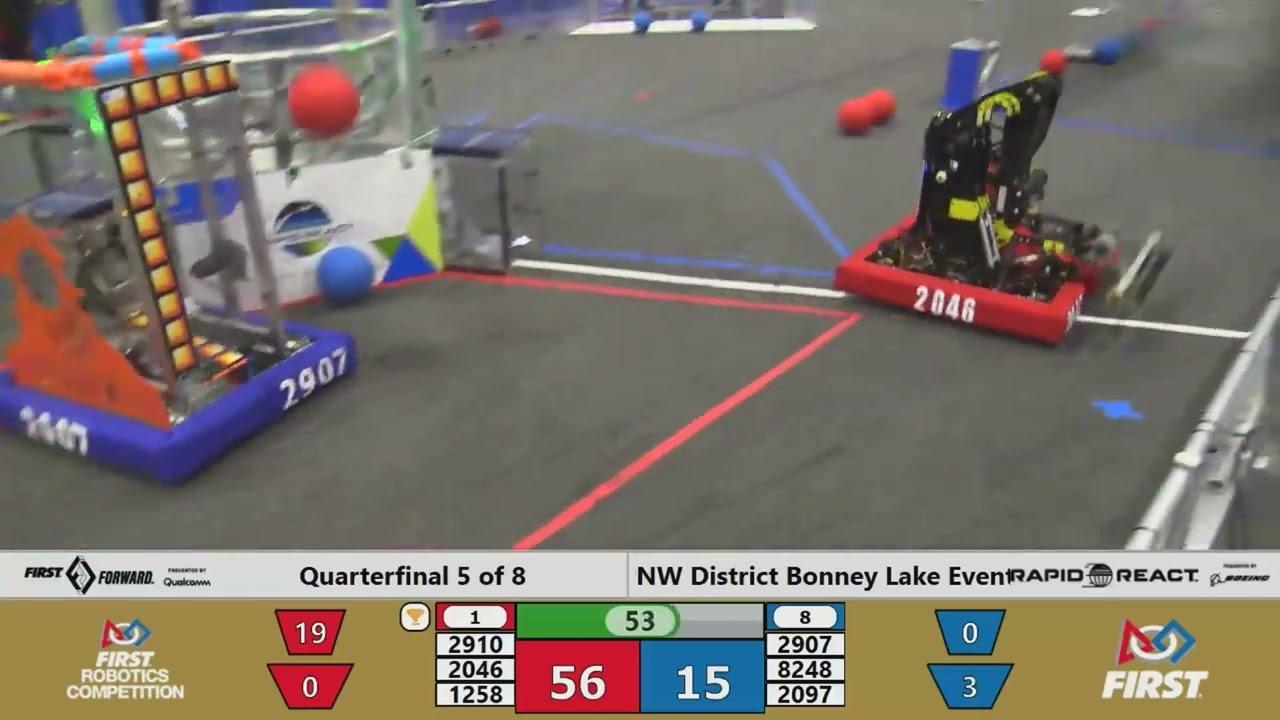robot: (0, 51, 365, 507), (819, 64, 1175, 363)
